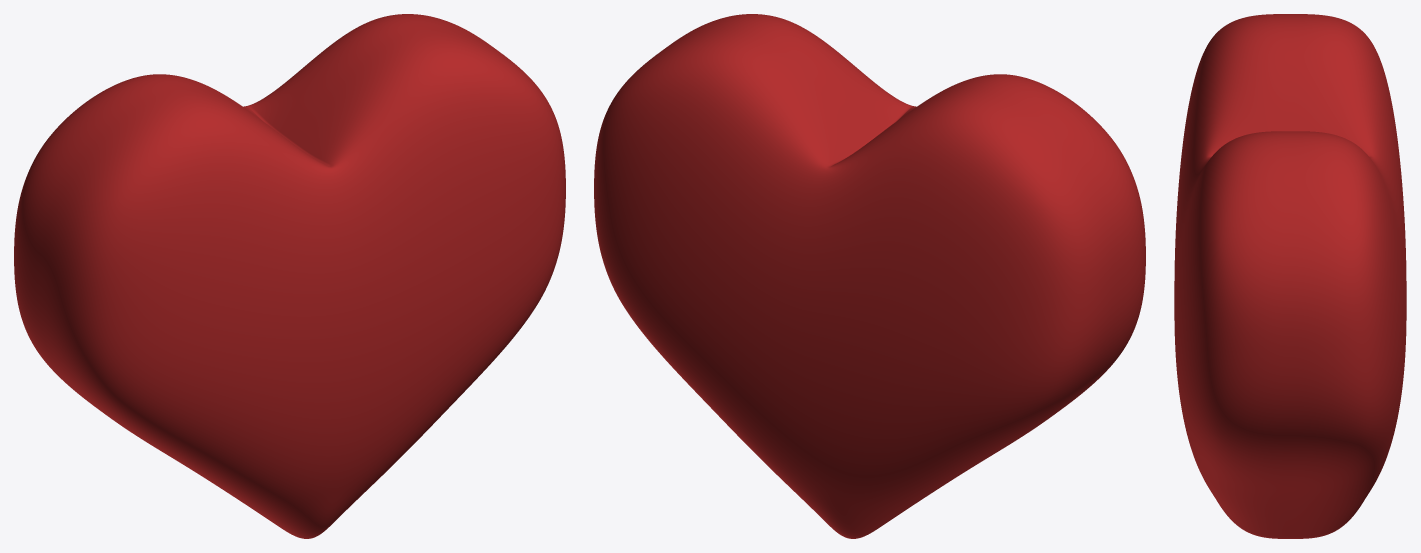
File: heart.fbx
3 renders of one model, left to right at view 1: azimuth 30°, elevation 25°; view 2: azimuth 150°, elevation 25°; view 3: azimuth 270°, elevation 25°, orthographic. The views are drawn at different scales.
Visible parts, largest first — view 1: Cube; view 2: Cube; view 3: Cube.
Part boxes in pixels (x1,y1,x2,y2): Cube: (14,14,565,538); Cube: (594,14,1145,538); Cube: (1174,14,1406,538).
Bounding box in the file's own units: 208 × 186 × 85.57.
